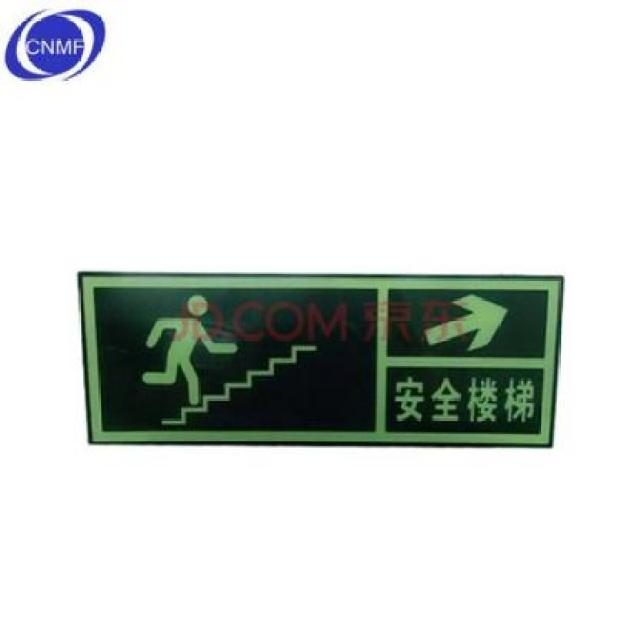exit_sign: (75, 268, 562, 457)
